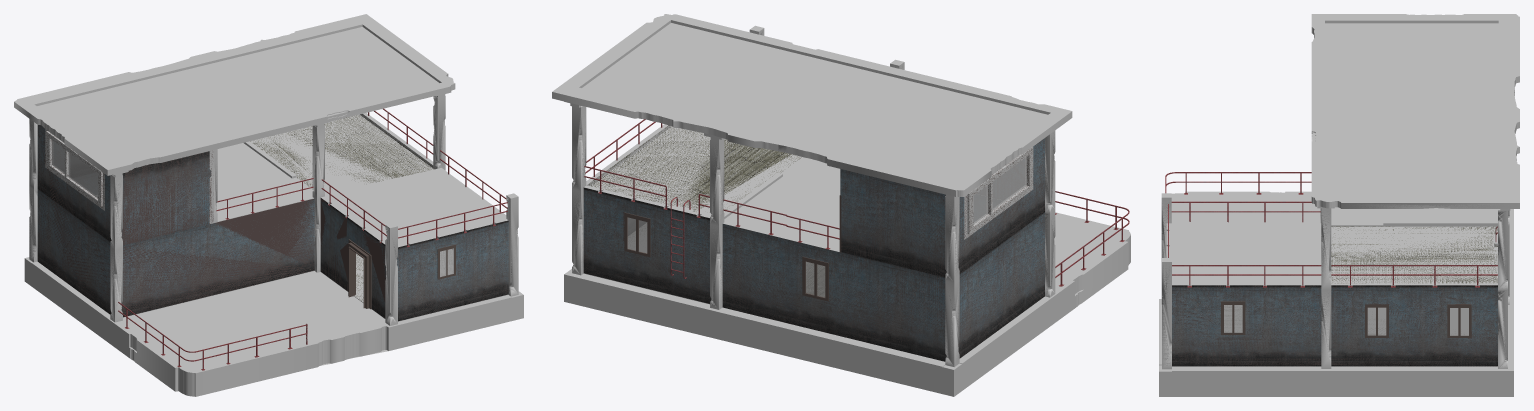
The model's file is office building.fbx.
3 renders of one model, left to right at view 1: azimuth 30°, elevation 25°; view 2: azimuth 150°, elevation 25°; view 3: azimuth 270°, elevation 25°, orthographic. The views are drawn at different scales.
Visible parts, largest first — view 1: Office_Building_Bootcamp, Window_Glasses; view 2: Office_Building_Bootcamp, Window_Glasses; view 3: Office_Building_Bootcamp, Window_Glasses.
Part boxes in pixels (bbox=[...]): Office_Building_Bootcamp: bbox=[14, 14, 523, 396]; Window_Glasses: bbox=[52, 140, 453, 277]; Office_Building_Bootcamp: bbox=[552, 14, 1130, 396]; Window_Glasses: bbox=[627, 157, 1026, 297]; Office_Building_Bootcamp: bbox=[1159, 14, 1519, 396]; Window_Glasses: bbox=[1224, 305, 1468, 335].
Size of the model in its own units: 1320 by 646 by 1066.
